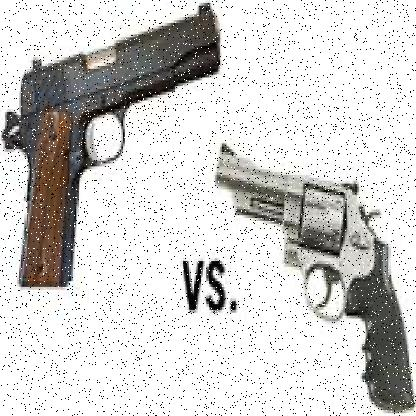pistol: (5, 3, 222, 287), (213, 135, 412, 413)
